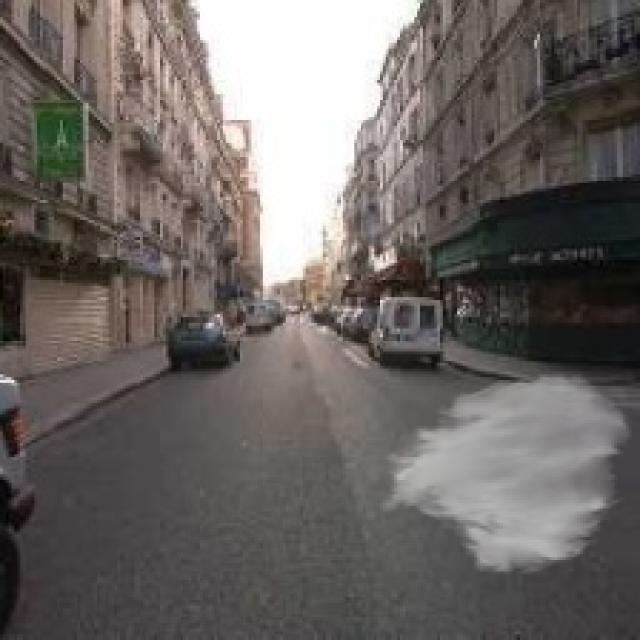smoke: (374, 372, 634, 577)
